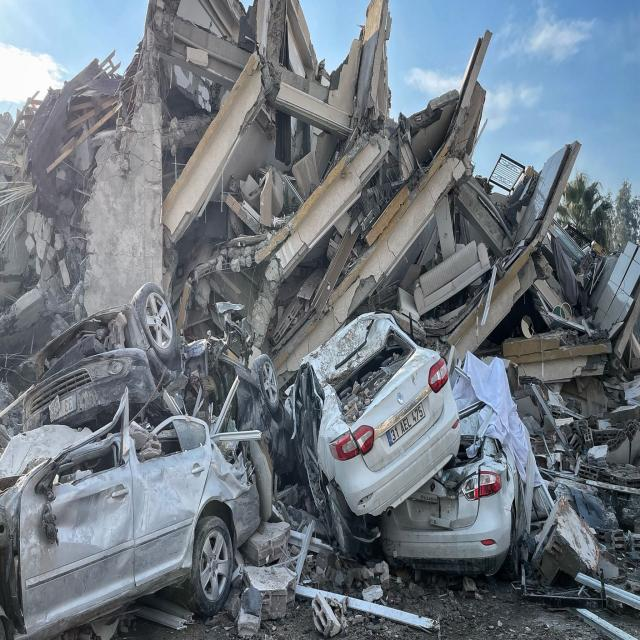Earthquake: (138, 0, 560, 640)
